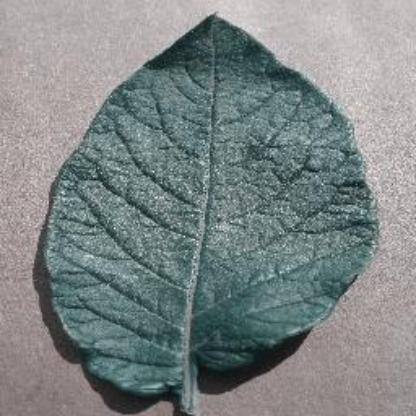Healthy-plant: (44, 15, 374, 413)
